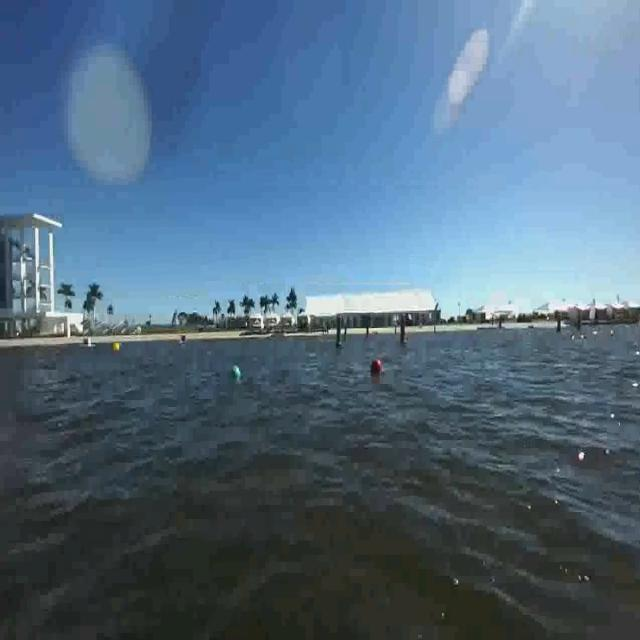green-buoy: (234, 366, 242, 378)
red-buoy: (372, 360, 382, 371)
yellow-buoy: (113, 341, 121, 355)
